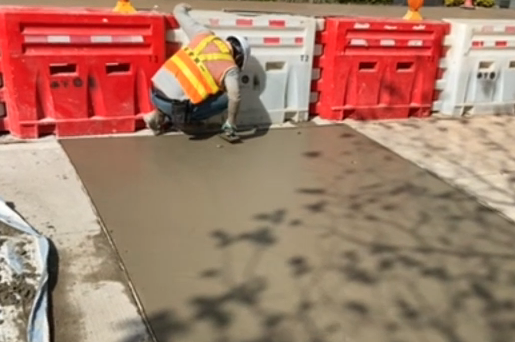Hard Hat: (226, 35, 253, 72)
Person: (143, 35, 253, 140)
Vest: (166, 32, 240, 106)
